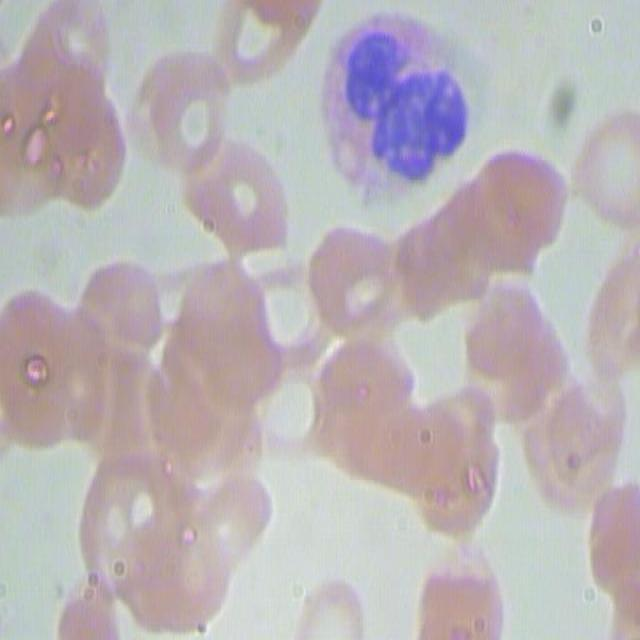RBC: (0, 41, 118, 221), (111, 522, 238, 638), (186, 138, 294, 259), (82, 455, 196, 562), (137, 48, 232, 168), (545, 384, 634, 512), (426, 387, 501, 536), (186, 266, 271, 396), (453, 299, 566, 387), (311, 235, 409, 334), (407, 549, 511, 640), (482, 145, 579, 241), (31, 0, 121, 100), (213, 0, 314, 86), (1, 302, 60, 446), (446, 192, 533, 286), (58, 294, 109, 454), (578, 112, 640, 241), (590, 482, 640, 638), (254, 268, 336, 352), (385, 398, 459, 490), (253, 366, 325, 457), (206, 474, 277, 564), (595, 247, 640, 385), (84, 271, 164, 346), (331, 335, 381, 451), (299, 576, 377, 640), (58, 591, 126, 640)
WBC: (323, 9, 474, 190)
